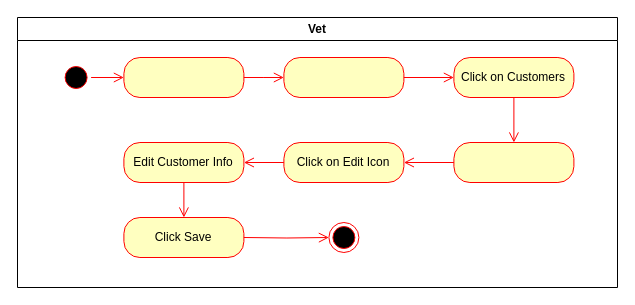
Image size: 635x305. Some labels were removed from this diagram. Here are the shapes that lost their labels. From the top down, the centre of each, then its label:
At (183,77): "Login".
At (343,77): "View Dashboard".
At (513,162): "Click on a Customer".
